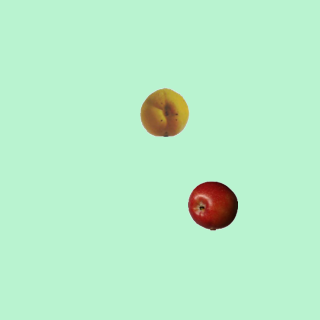Apple Braeburn: (187, 180, 237, 230)
Peach 2: (139, 86, 189, 136)
